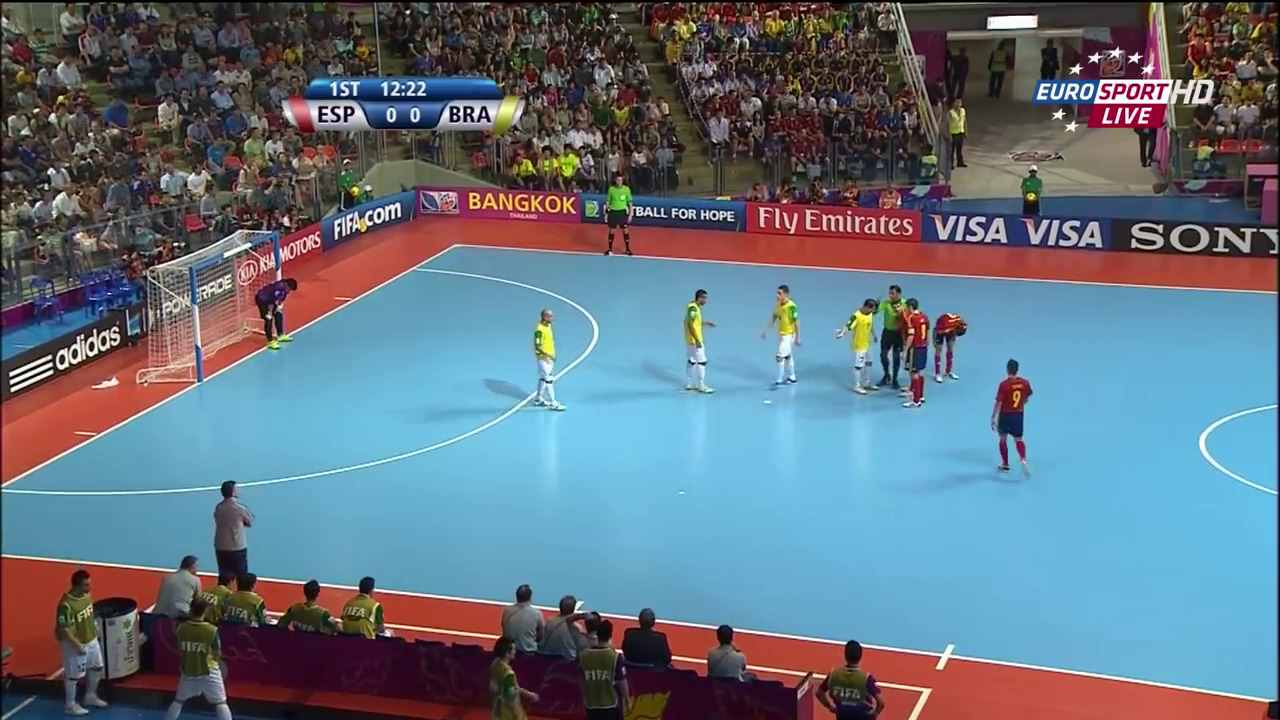ball: (1026, 191, 1038, 203)
person: (986, 353, 1037, 475), (524, 304, 568, 413), (678, 287, 719, 400), (760, 282, 802, 390), (253, 265, 302, 355), (834, 300, 878, 394), (898, 300, 930, 407), (933, 310, 965, 382)
